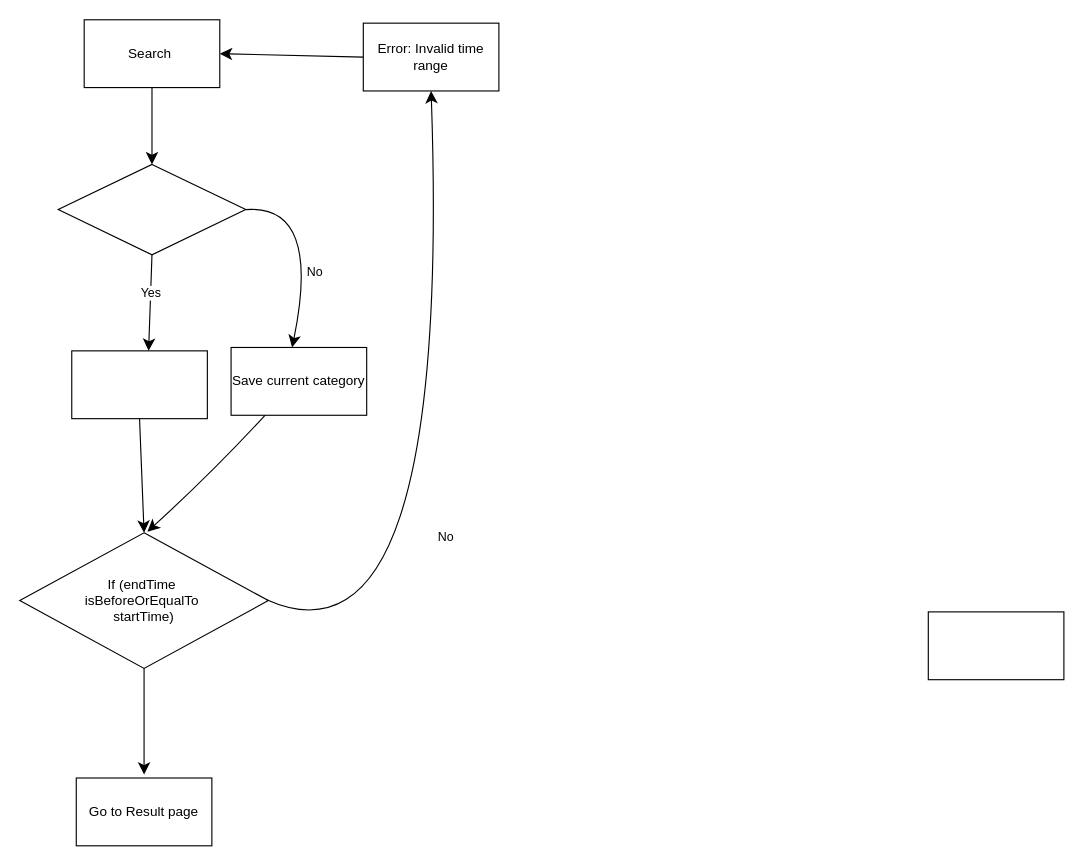
This 1084x866 diagram has some shape labels left out. Here are the shapes that lost their labels. From the top down, the box of each, then its label:
(57, 163, 246, 255): Choose "All treatments and venues" ?
(71, 350, 207, 419): Save all categories to state
